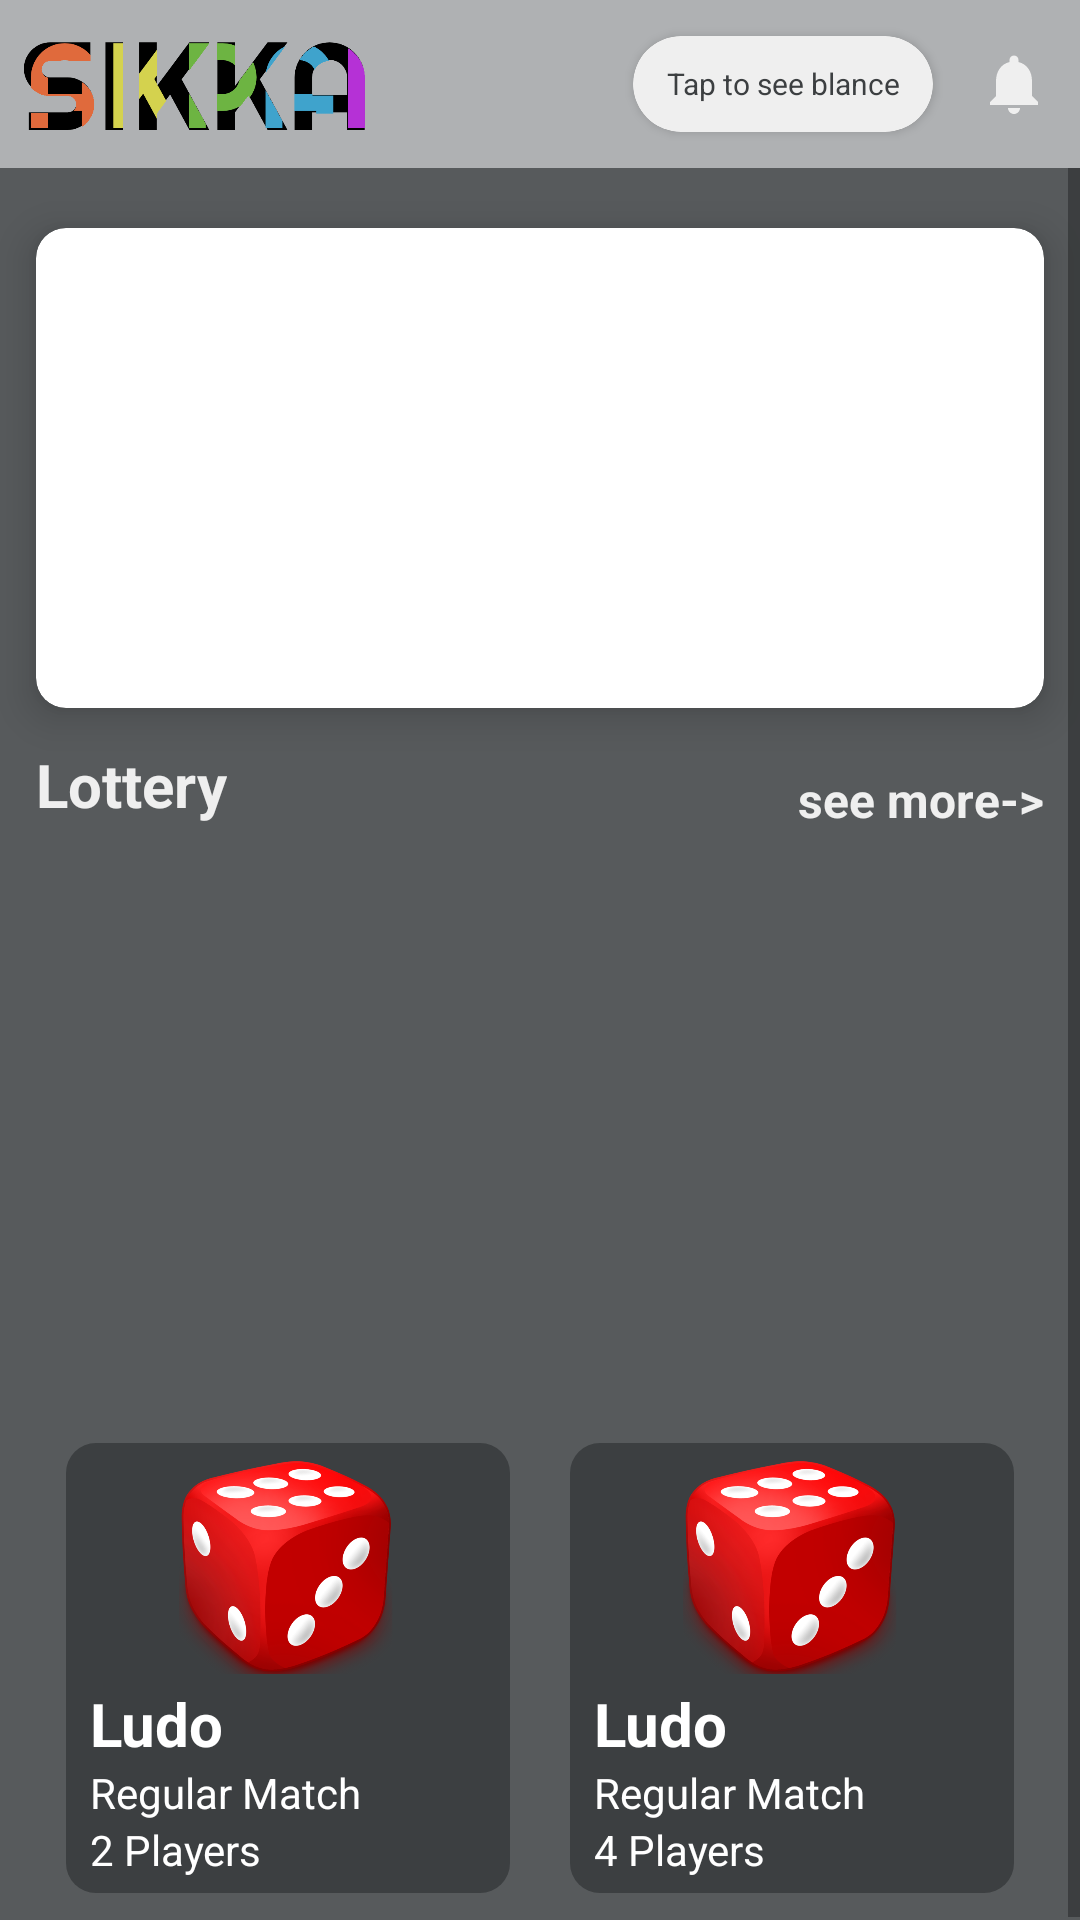

Icon bounding boxes for this 1080×1920 phone screenshot, format box=[x1, y1, x2, y2]:
lodu dice: box=[181, 1461, 391, 1674], box=[685, 1461, 895, 1674]
notification: box=[990, 56, 1038, 114]
